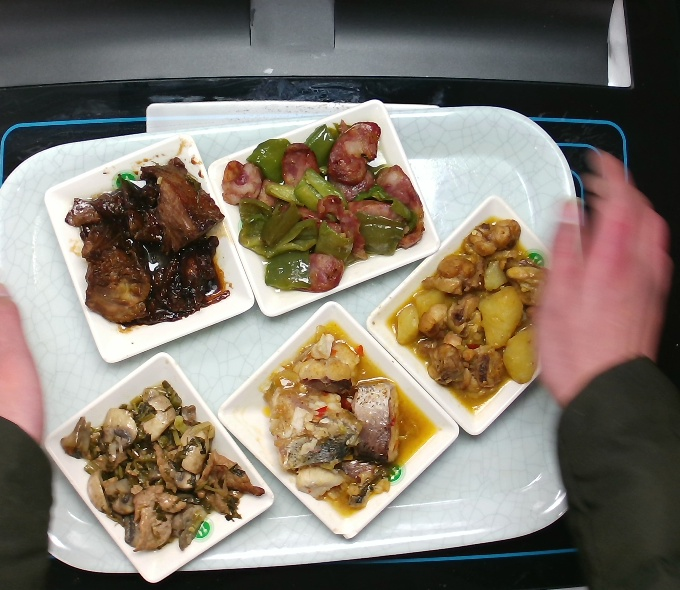wcq-JiangZhiYa: (61, 155, 229, 327)
wcq-MoGuRouPian: (59, 381, 264, 552)
wcq-QingJiaoXiangChang: (221, 117, 427, 293)
wcq-SuanCaiYu: (262, 319, 435, 514)
